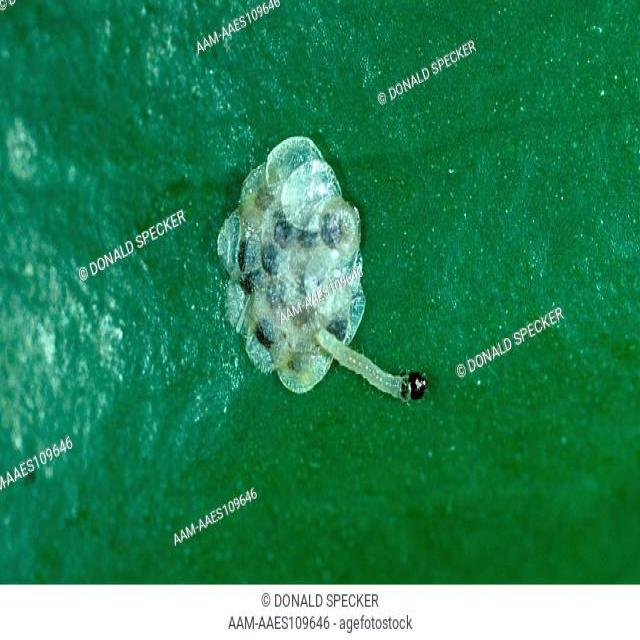cornborer-Larva-: (304, 324, 430, 412)
